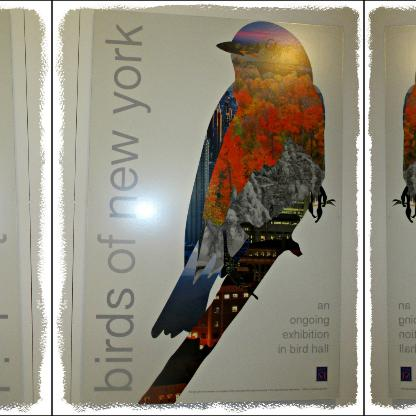Bird: (136, 32, 340, 348)
